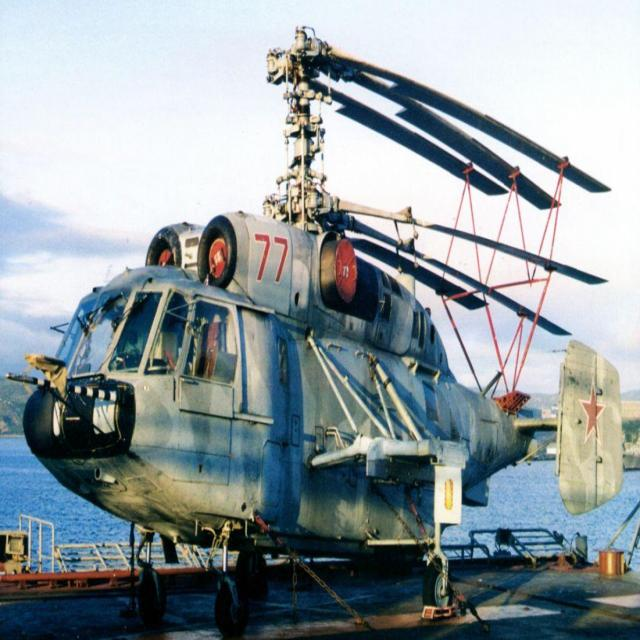MIL_HELO: (9, 0, 617, 621)
